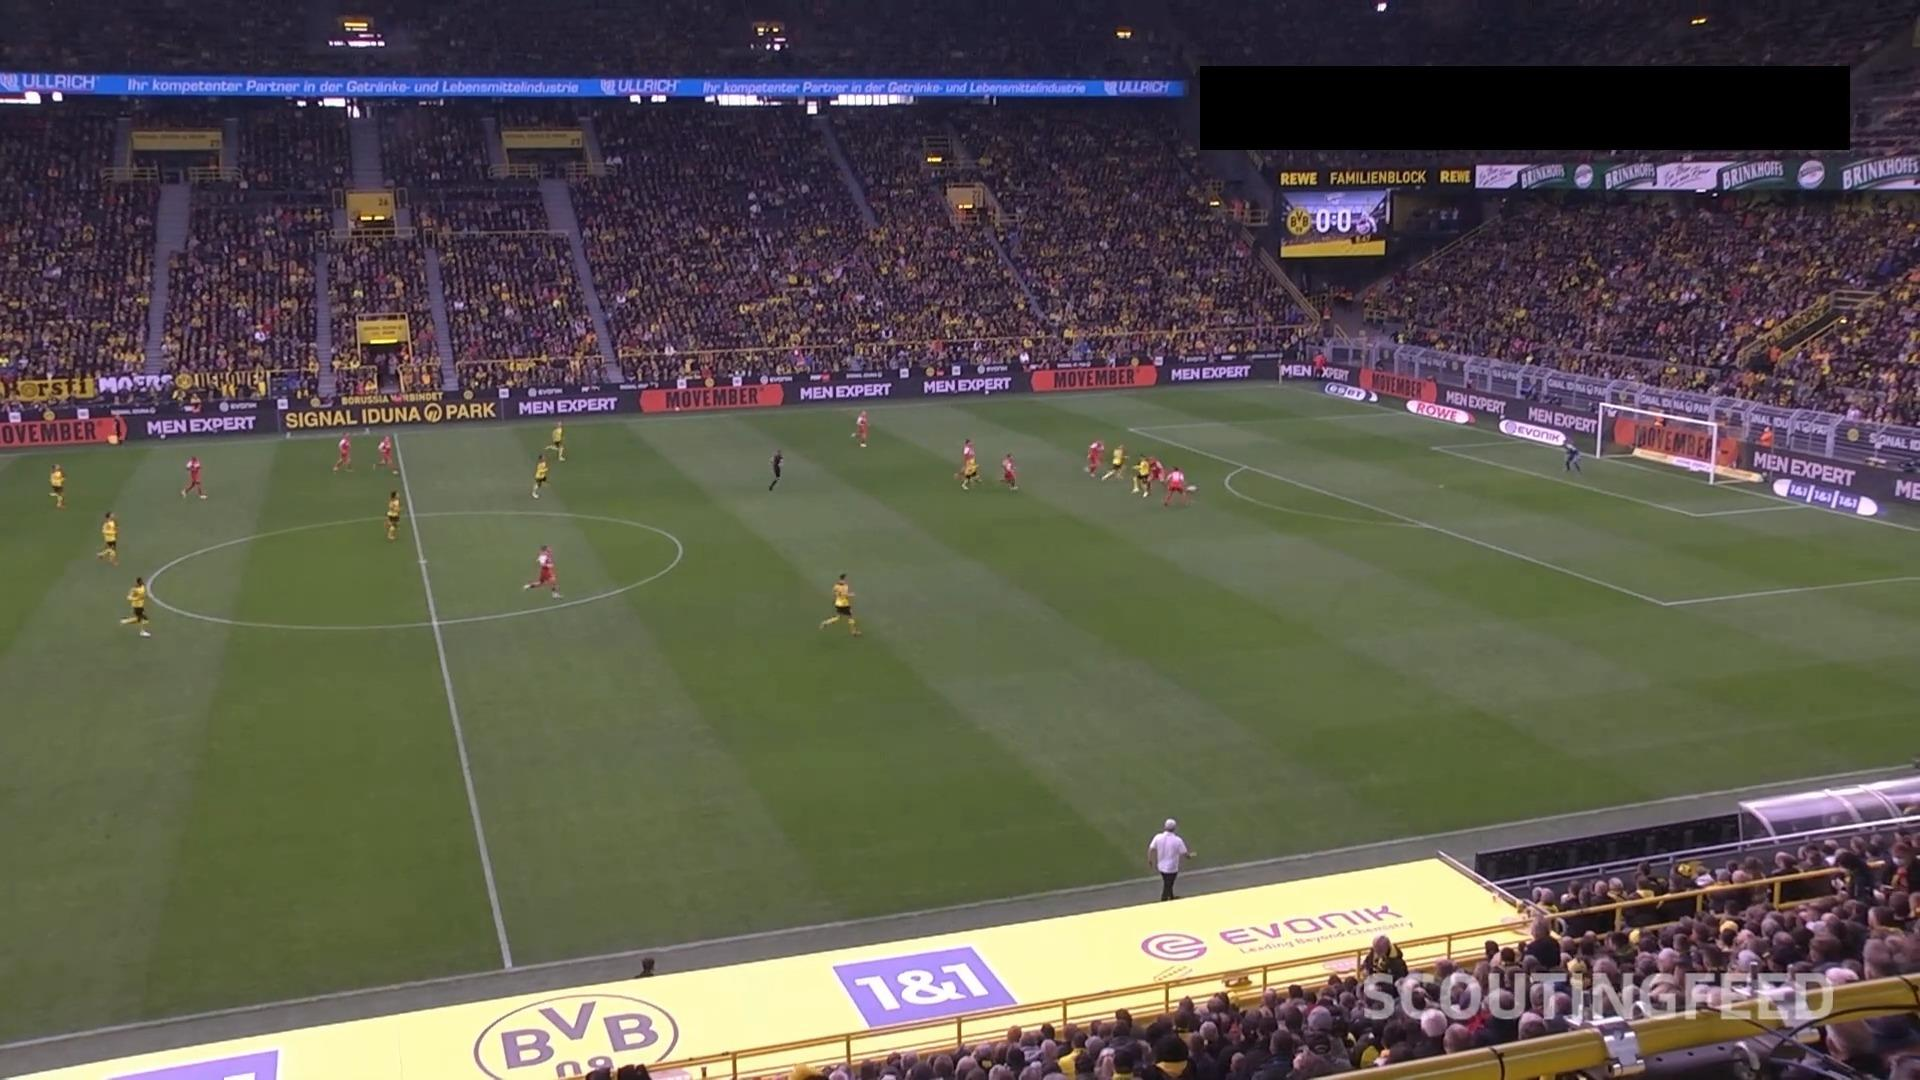player: (818, 571, 861, 637), (522, 543, 561, 598), (119, 575, 151, 637), (1162, 465, 1194, 507), (96, 510, 119, 565), (179, 454, 206, 499), (1130, 453, 1153, 497), (1099, 443, 1126, 480), (384, 489, 402, 540), (331, 432, 353, 472), (529, 453, 548, 499), (48, 462, 66, 508), (1084, 437, 1105, 476), (372, 434, 394, 470), (959, 453, 980, 490), (1000, 451, 1019, 490), (1562, 439, 1582, 473), (549, 420, 566, 460), (853, 409, 869, 448), (1147, 456, 1165, 483), (959, 437, 974, 466)
referee: (1146, 816, 1196, 901), (767, 448, 782, 490), (109, 412, 126, 445), (1277, 359, 1289, 384)
